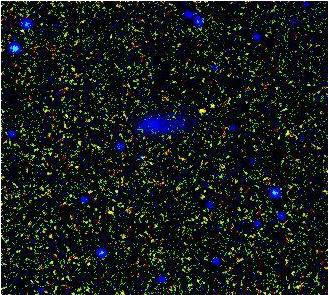star: (190, 92, 220, 122)
